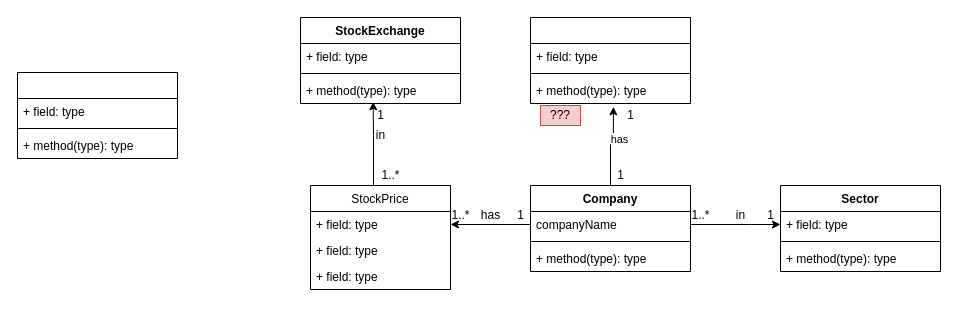
Some shapes in this 958 by 310 pixel diagram are drawn without their labels. The shapes that lost their labels are listed below. From the top down, each one's box as (x1, y1, x2, y2) in pixels, then its label:
(530, 16, 690, 104): IPO
(16, 72, 178, 158): User
